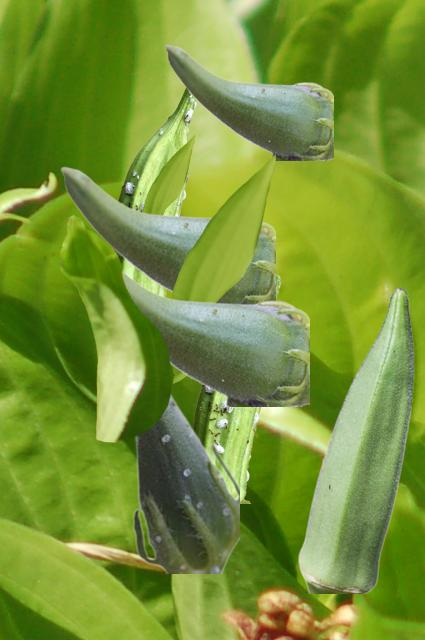okra: (298, 287, 413, 592), (96, 357, 238, 572), (60, 166, 274, 303), (123, 270, 308, 405), (192, 274, 280, 502), (164, 44, 332, 159), (117, 88, 196, 296)
